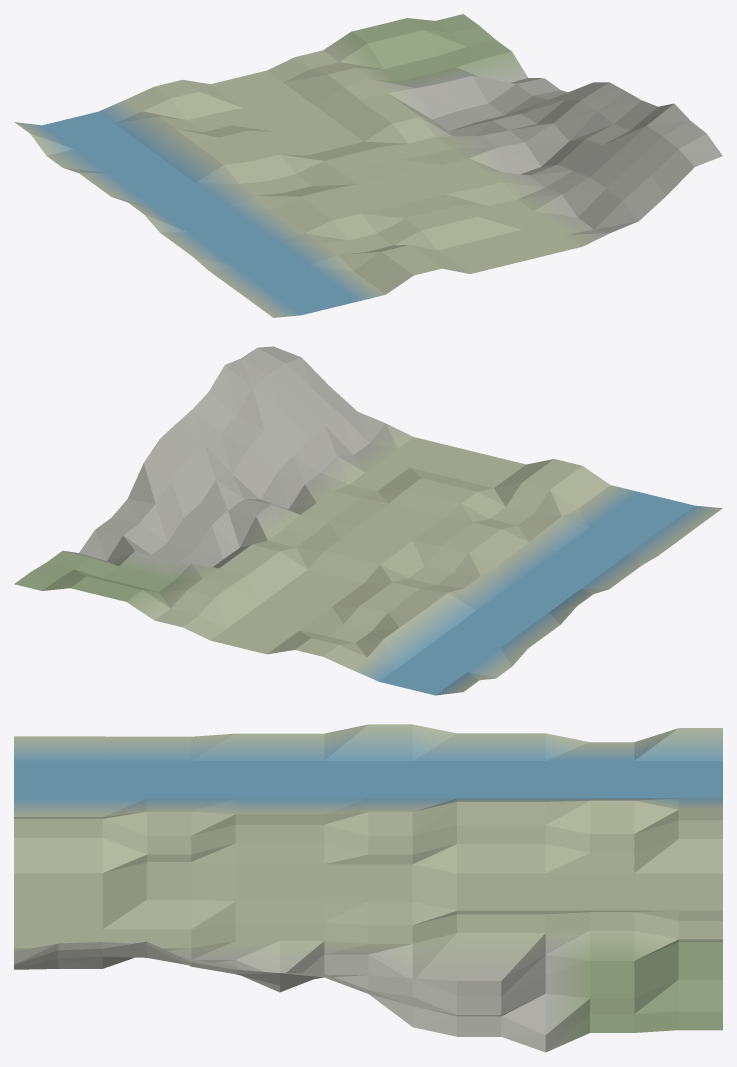
3 views of the same model, one above another, from view 1: azimuth 30°, elevation 25°; view 2: azimuth 150°, elevation 25°; view 3: azimuth 270°, elevation 25° (orthographic). The views are drawn at different scales.
Size of the model in its own units: 32 by 5.72 by 32.
